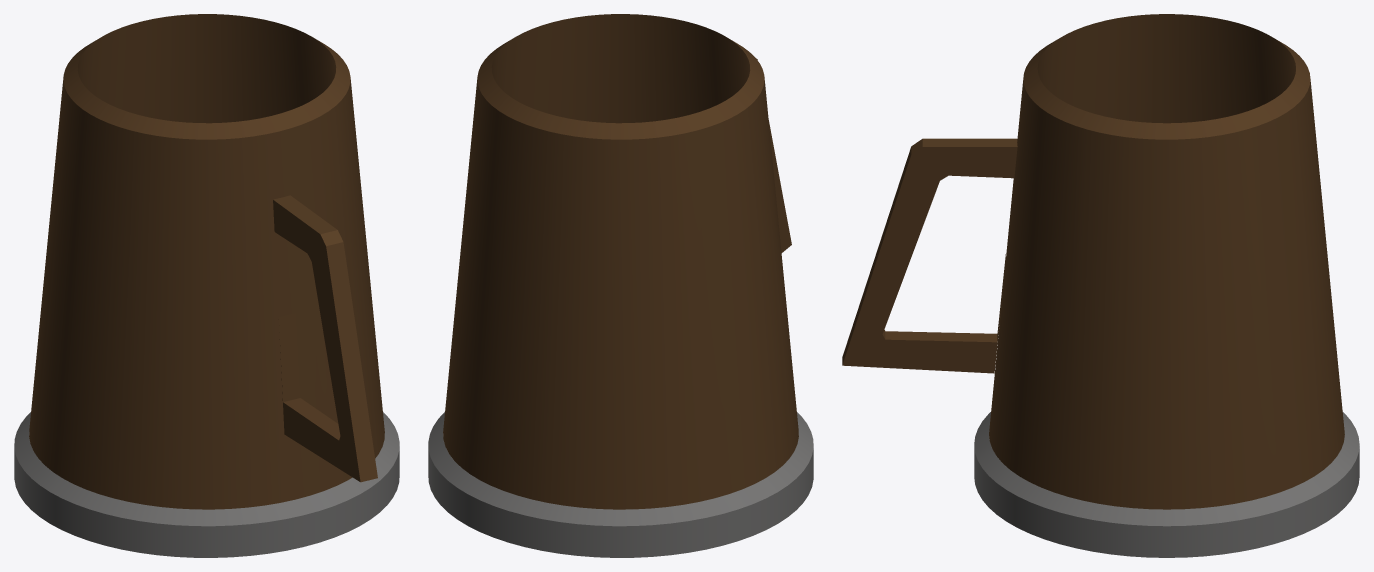
The picture shows the model from 3 angles, left to right: view 1: azimuth 30°, elevation 25°; view 2: azimuth 150°, elevation 25°; view 3: azimuth 270°, elevation 25°; orthographic projection.
Visible parts, largest first — view 1: wood_body, metal_foot, handle; view 2: wood_body, metal_foot, handle; view 3: wood_body, metal_foot, handle.
Boxes of the visible parts, x1=… form: wood_body: x1=29, y1=14, x2=384, y2=509; metal_foot: x1=14, y1=412, x2=399, y2=557; handle: x1=273, y1=195, x2=377, y2=482; wood_body: x1=443, y1=14, x2=798, y2=509; metal_foot: x1=428, y1=412, x2=813, y2=557; handle: x1=756, y1=58, x2=791, y2=252; wood_body: x1=989, y1=14, x2=1344, y2=509; metal_foot: x1=974, y1=412, x2=1359, y2=557; handle: x1=842, y1=138, x2=1017, y2=373.
Bounding box in the file's own units: 0.1342 × 0.1567 × 0.1801.
